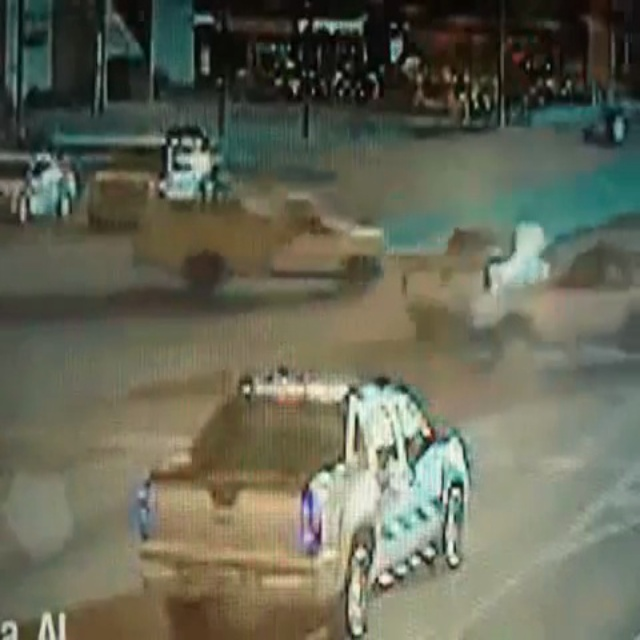acc: (401, 198, 637, 350)
